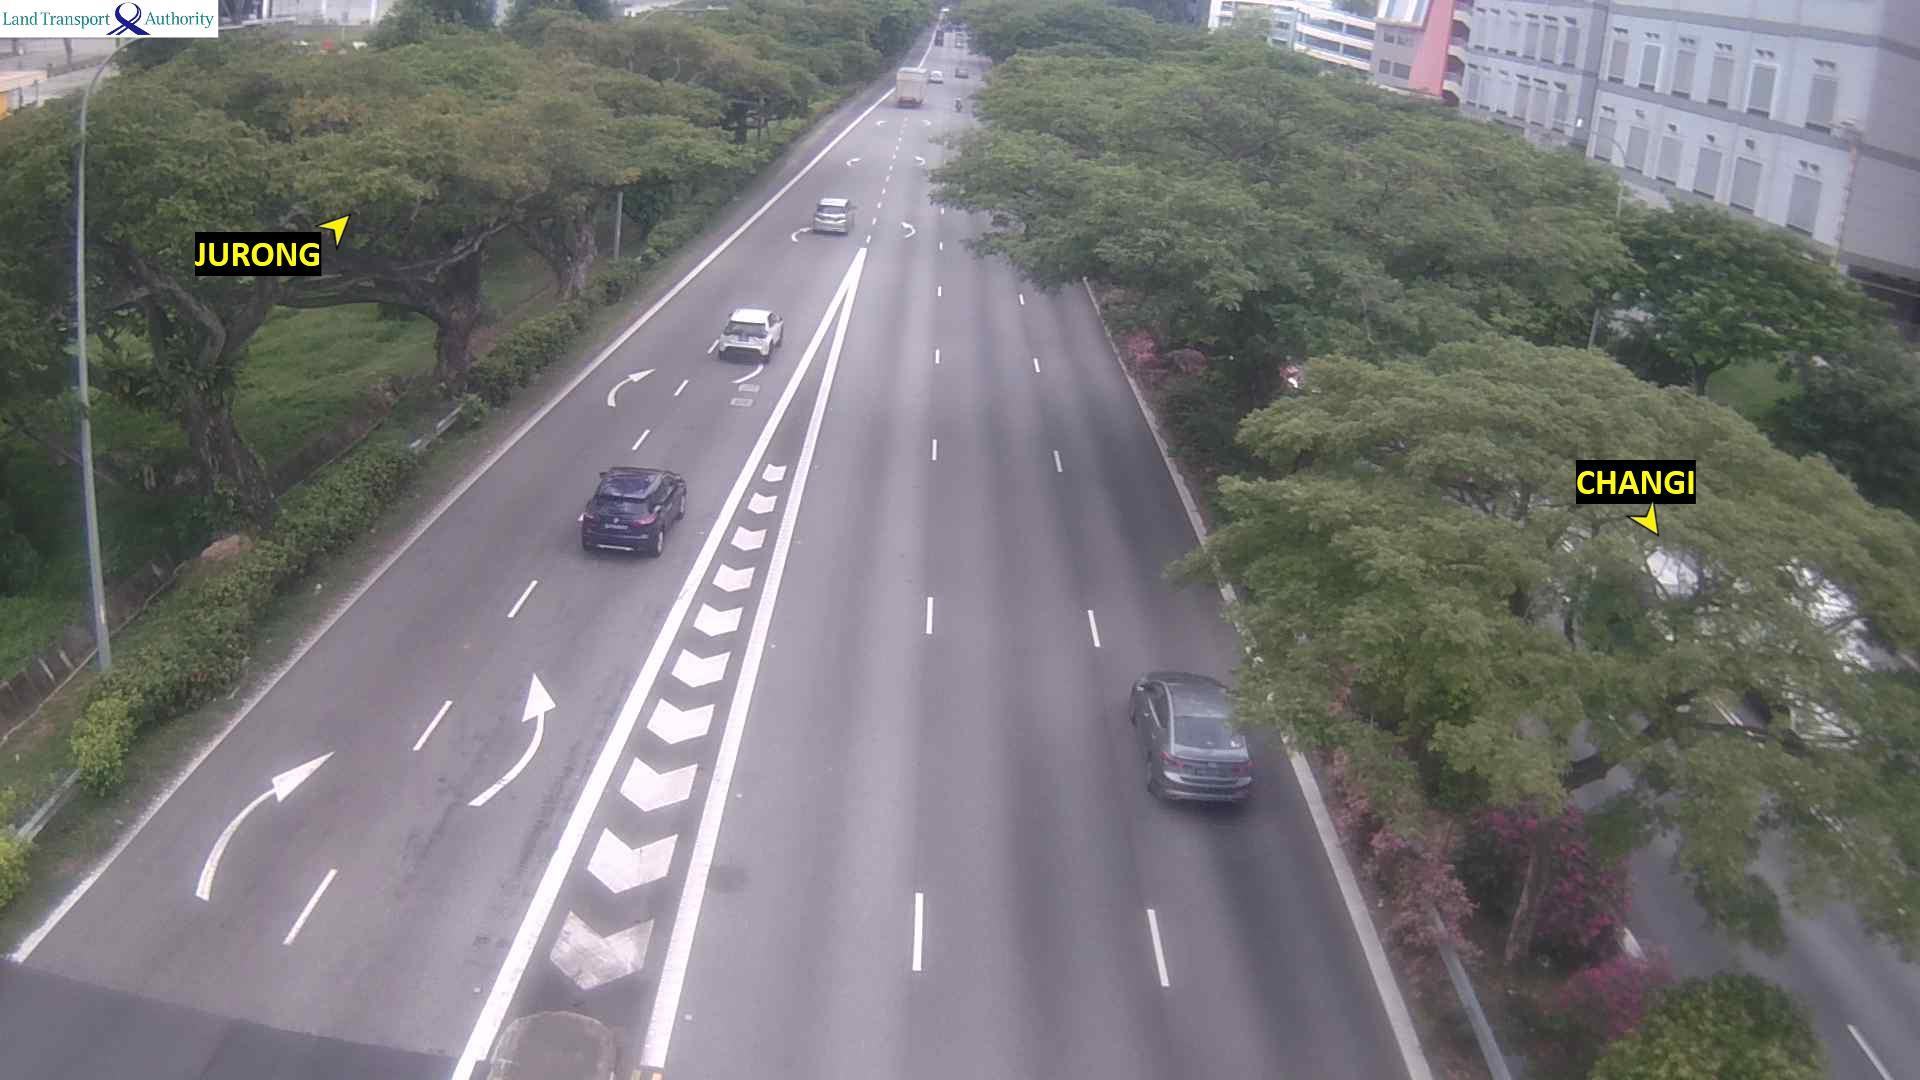cars: (1127, 669, 1254, 806), (577, 464, 687, 557), (707, 306, 783, 362), (811, 195, 855, 234), (927, 68, 943, 83), (954, 65, 968, 77)
motorcycle: (954, 97, 962, 111)
trucks: (895, 66, 925, 107), (933, 29, 947, 49), (953, 32, 966, 50)
